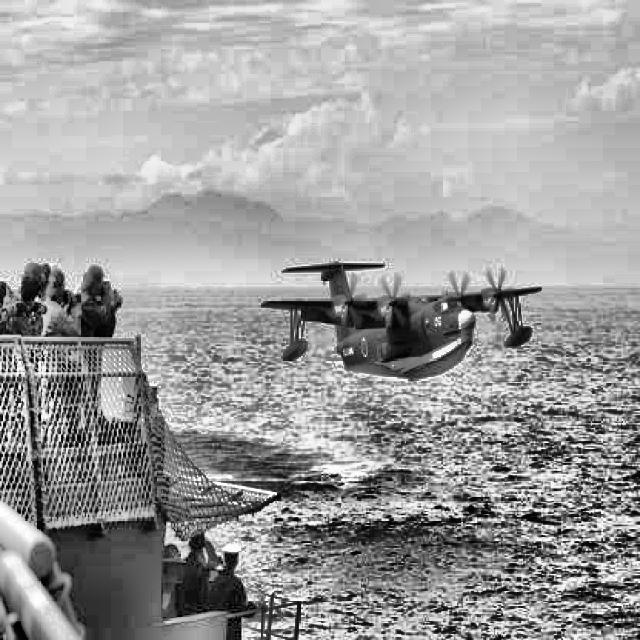US2: (260, 258, 542, 380)
